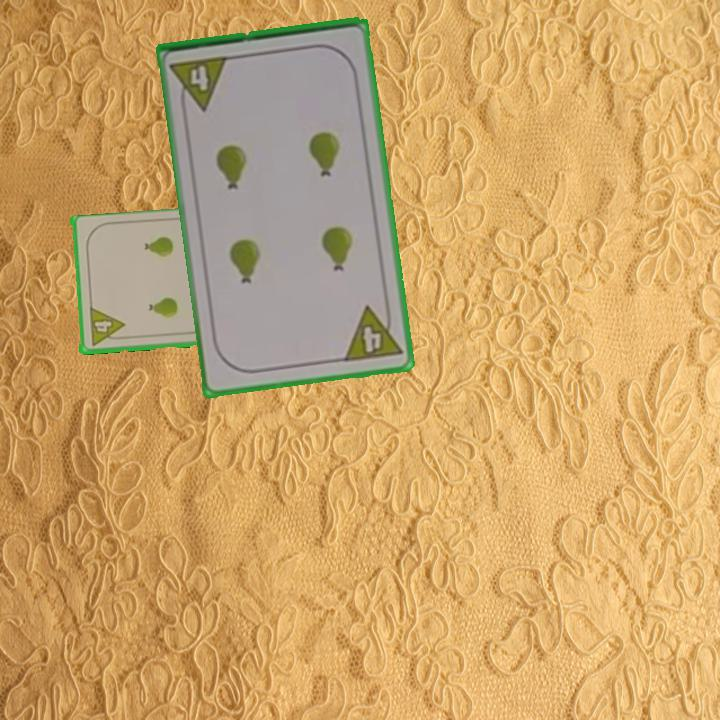4p: (340, 300, 405, 365), (167, 52, 232, 115), (85, 305, 127, 349)
